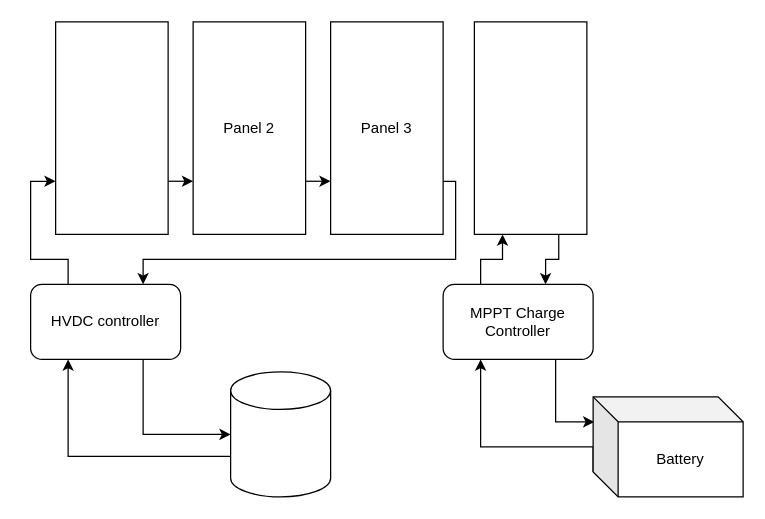
Some shapes in this 765 by 519 pixel diagram are drawn without their labels. The centre of each missing label's shape, as x and y in pixels:
"Geyser" goes at point 280,434.
"Panel 1" goes at point 111,127.
"Panel 4" goes at point 530,127.
